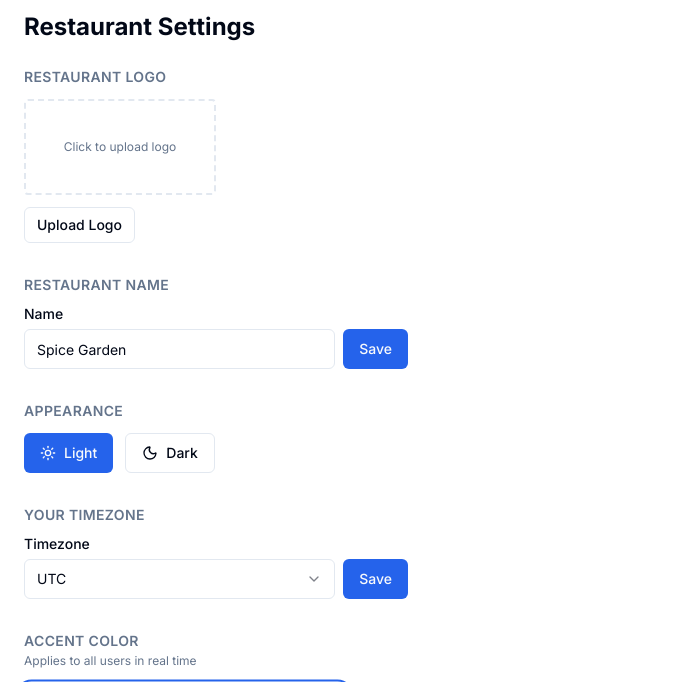
Test: RestaurantSettingsPage › shows success message after successful name save
The image size is (694, 682).
Click the button "Save" below "Restaurant Name".
click(376, 349)  # box left=343, top=329, right=408, bottom=369
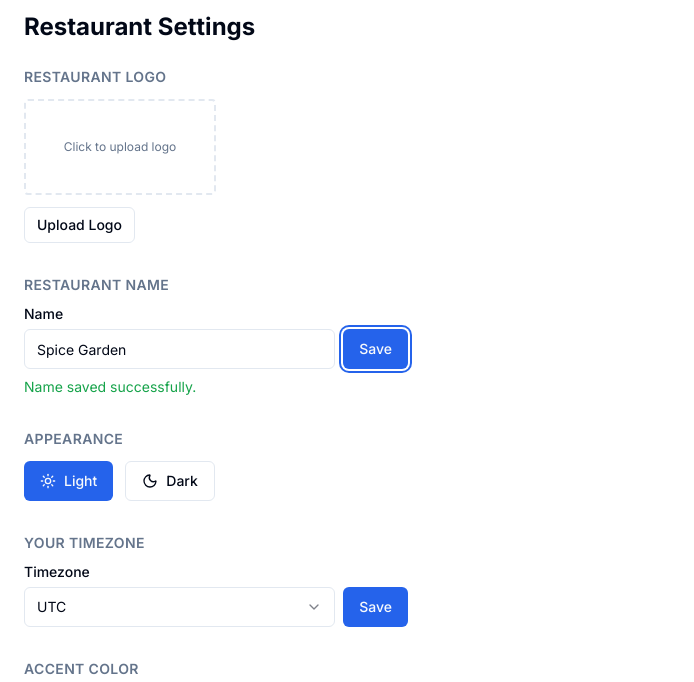
Now the text "Name saved successfully." is shown, box left=24, top=378, right=196, bottom=395
